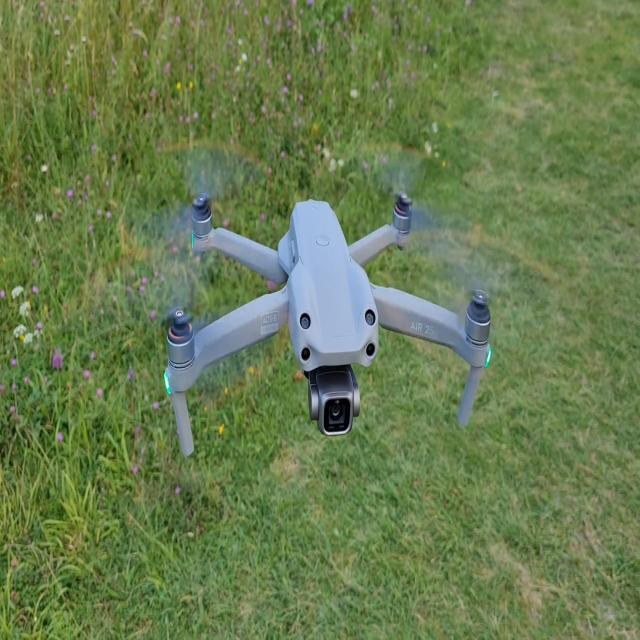drone: (163, 189, 492, 457)
